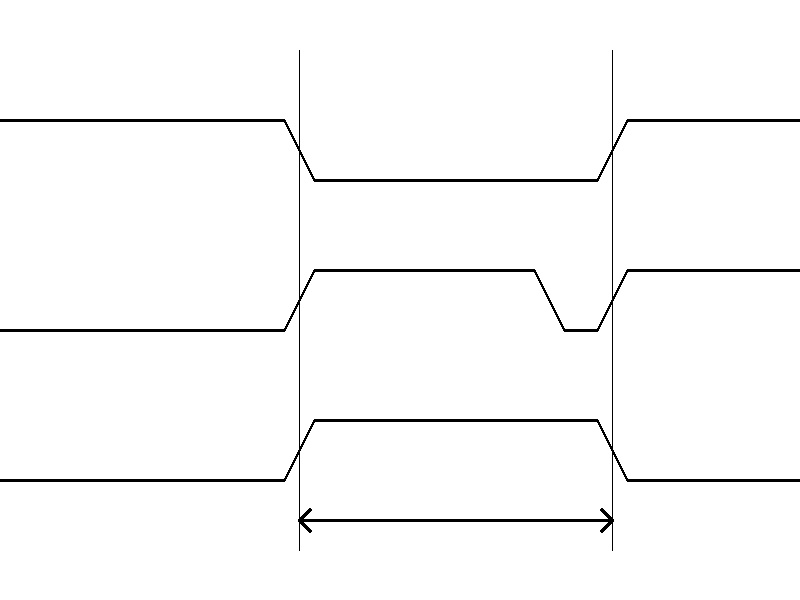double_arrow: (299, 505, 612, 535)
